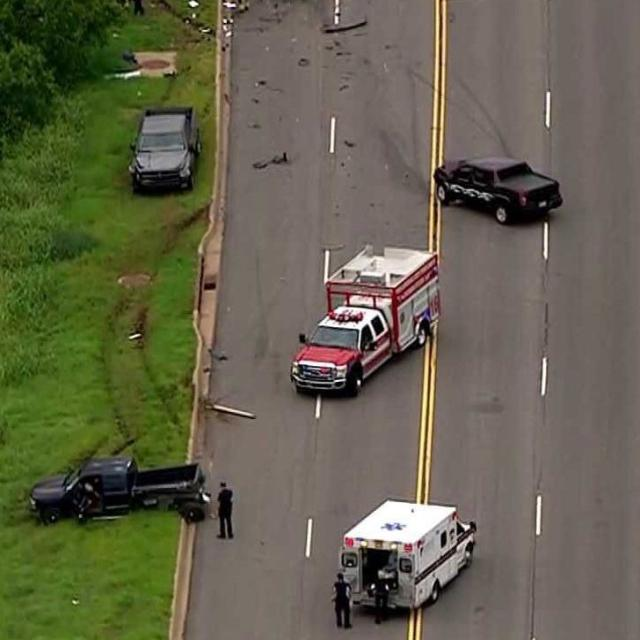traffic_incident: (18, 430, 214, 544)
